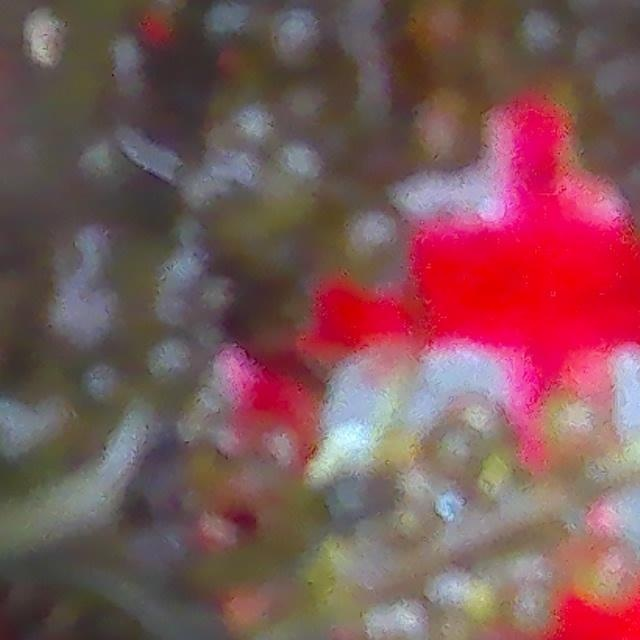SeaGrape: (338, 209, 410, 290)
